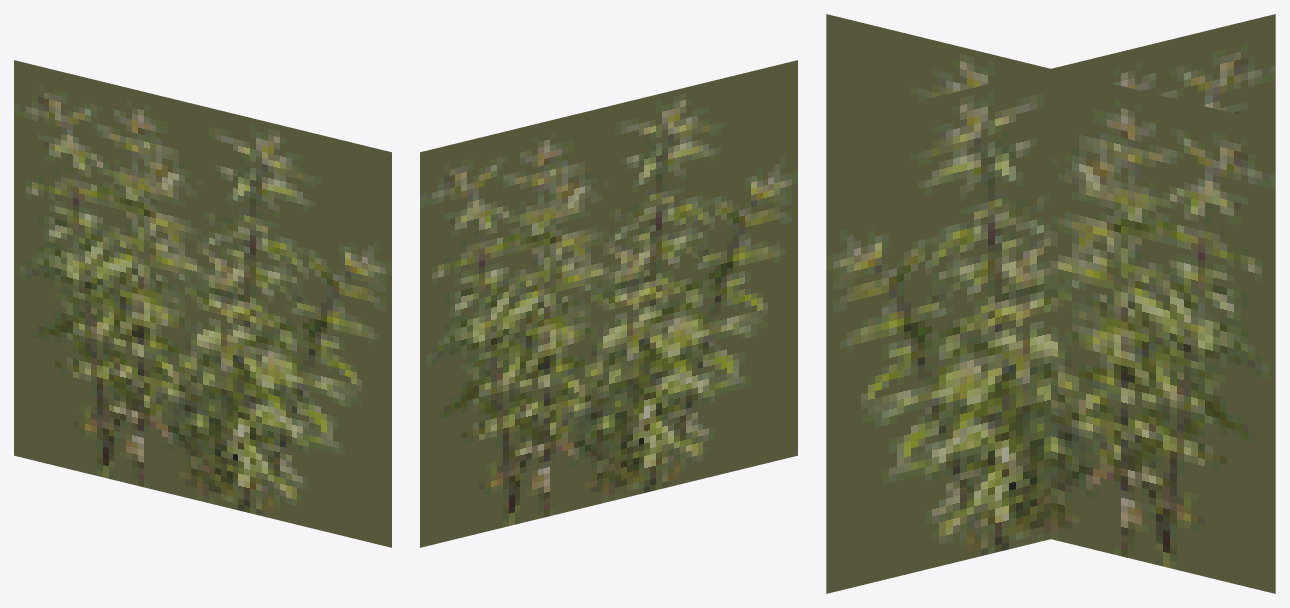
File: plant_tall.fbx
3 views of the same model, side by side, from view 1: azimuth 30°, elevation 25°; view 2: azimuth 150°, elevation 25°; view 3: azimuth 270°, elevation 25° (orthographic). The views are drawn at different scales.
Visible parts, largest first — view 1: plant_tall; view 2: plant_tall; view 3: plant_tall.
Boxes of the visible parts, bbox=[...] form: plant_tall: bbox=[14, 60, 391, 547]; plant_tall: bbox=[420, 60, 797, 547]; plant_tall: bbox=[826, 14, 1275, 593].
Size of the model in its own units: 100 by 200 by 173.
